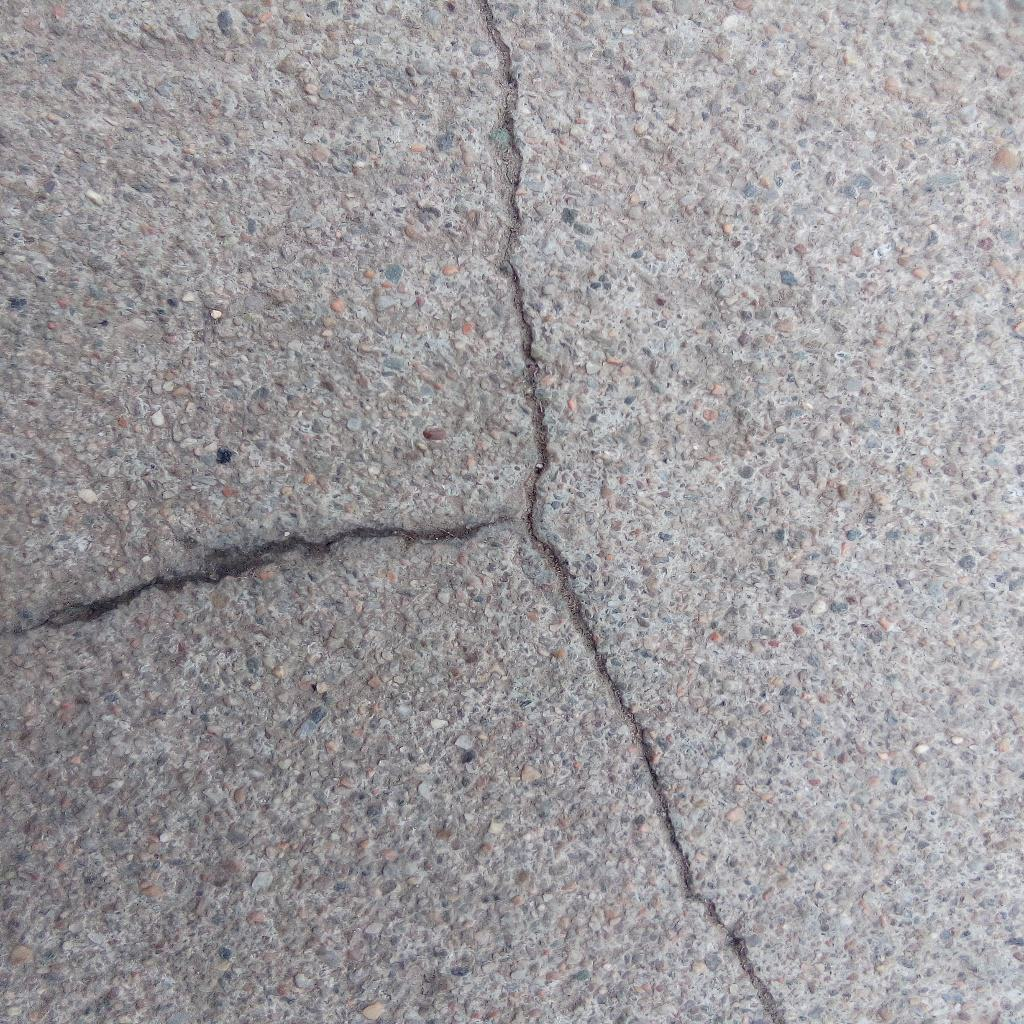Crack: (525, 514, 782, 1024), (1, 513, 525, 637), (473, 1, 555, 513)
